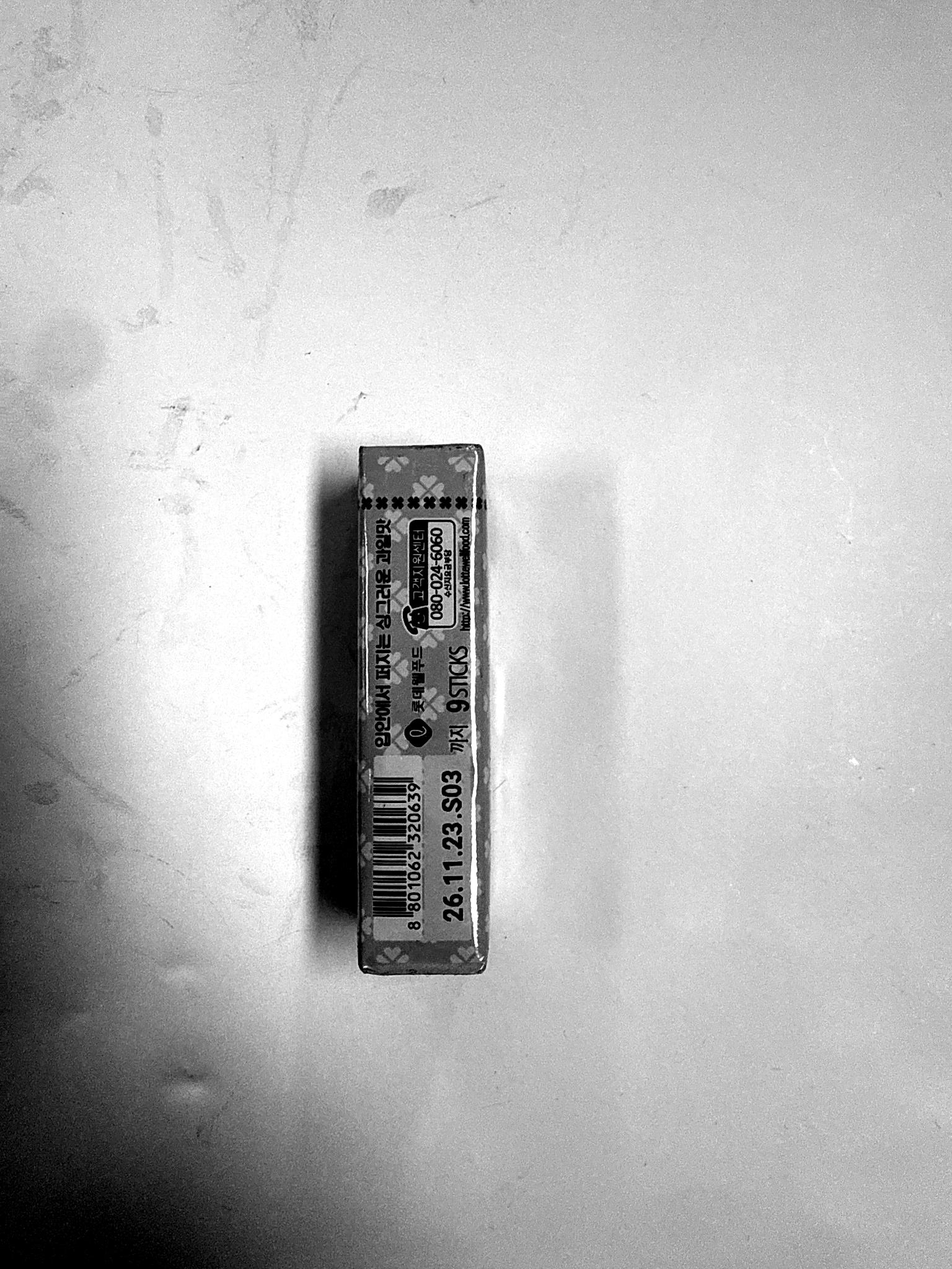gum_yellow: (360, 442, 488, 971)
